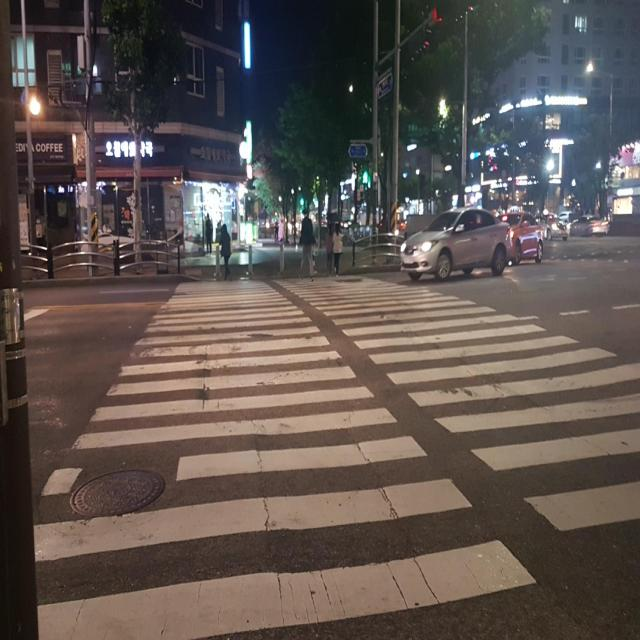초록불: (359, 160, 372, 198)
횡단보도: (33, 274, 640, 639)
